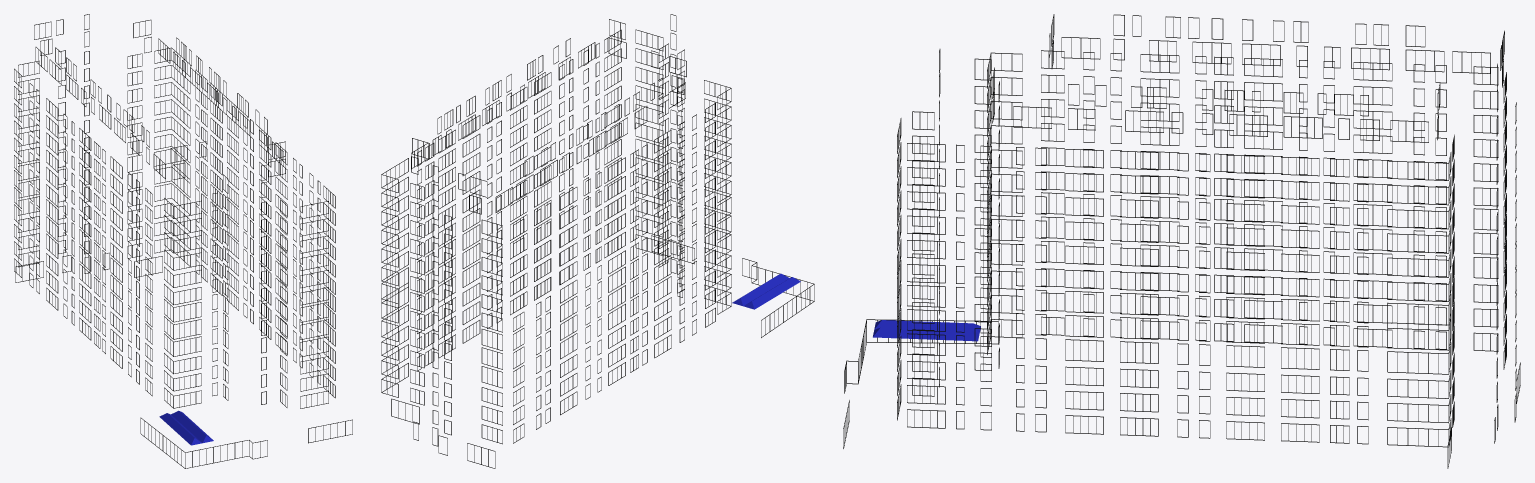
The model's file is frames.FBX.
3 views of the same model, side by side, from view 1: azimuth 30°, elevation 25°; view 2: azimuth 150°, elevation 25°; view 3: azimuth 270°, elevation 25° (orthographic). The views are drawn at different scales.
Parts seen in each view (by area): view 1: Shape077, Box042; view 2: Shape077, Box042; view 3: Shape077, Box042.
Boxes of the visible parts, x1,y1,x2,y2 form: Shape077: [14, 14, 352, 468]; Box042: [159, 410, 213, 445]; Shape077: [381, 14, 814, 468]; Box042: [732, 273, 800, 309]; Shape077: [843, 14, 1520, 468]; Box042: [873, 320, 980, 341].
Size of the model in its own units: 3497 by 4462 by 7529.
